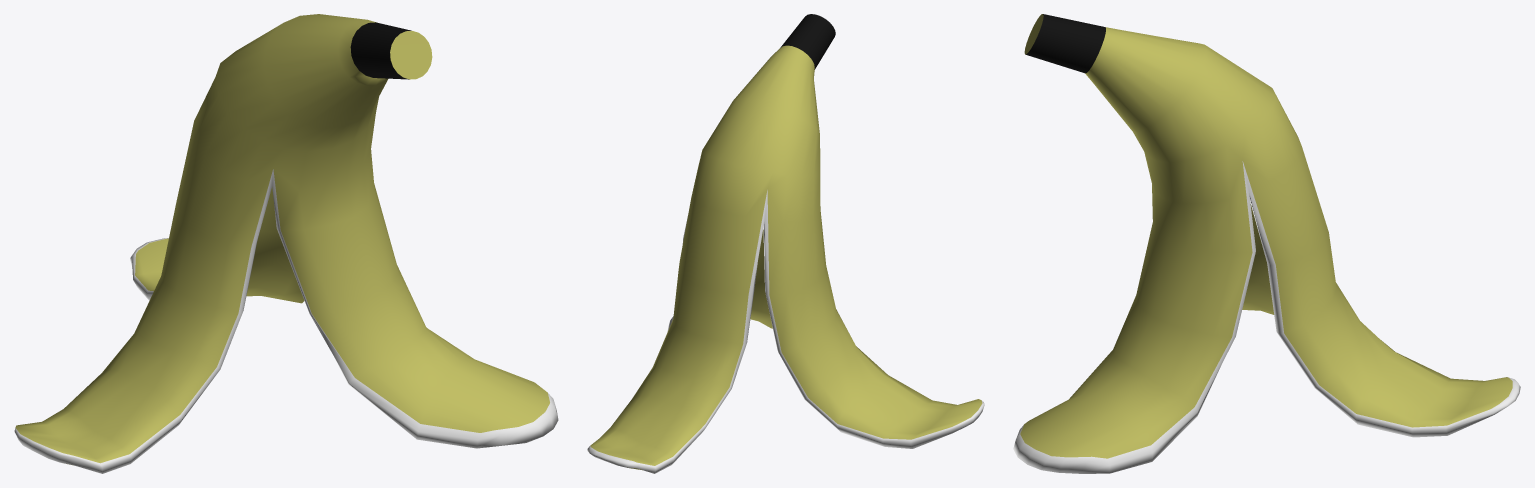
Rendered from banana.fbx.
3 views of the same model, side by side, from view 1: azimuth 30°, elevation 25°; view 2: azimuth 150°, elevation 25°; view 3: azimuth 270°, elevation 25° (orthographic). The views are drawn at different scales.
Parts seen in each view (by area): view 1: Banana; view 2: Banana; view 3: Banana.
Part boxes in pixels (x1,y1,x2,y2): Banana: [14, 14, 558, 473]; Banana: [587, 14, 984, 473]; Banana: [1013, 14, 1520, 473].
Bounding box in the file's own units: 53.38 × 47.69 × 56.05.
